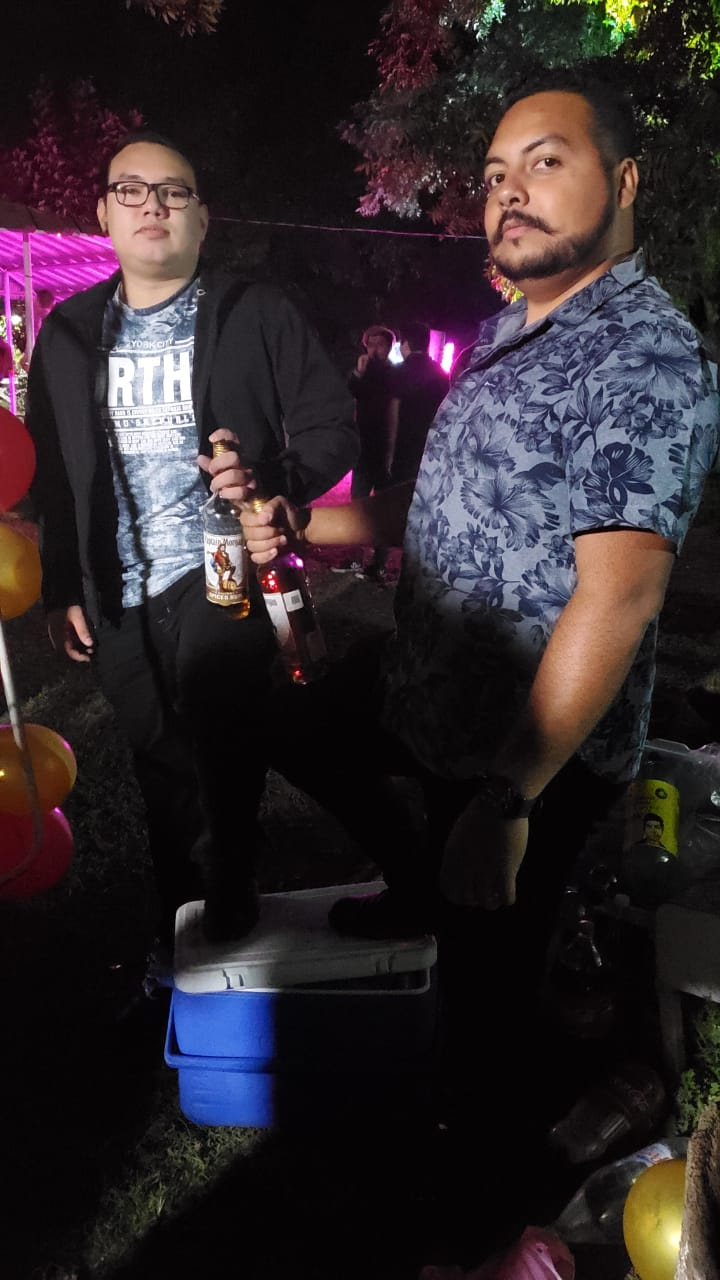Yoshi: (352, 58, 686, 585)
